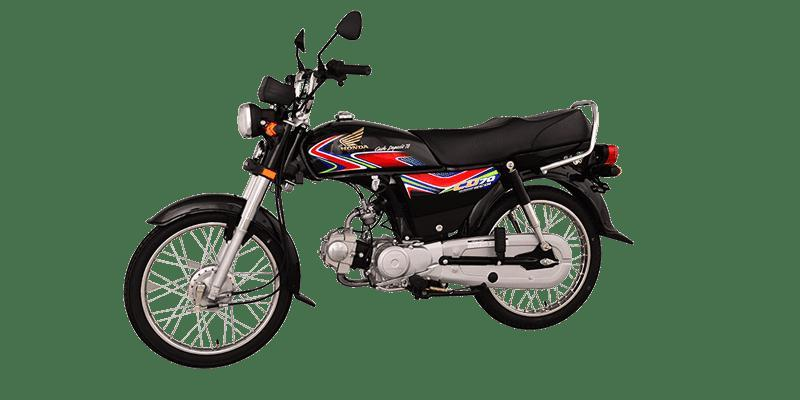bike: (121, 11, 636, 368)
